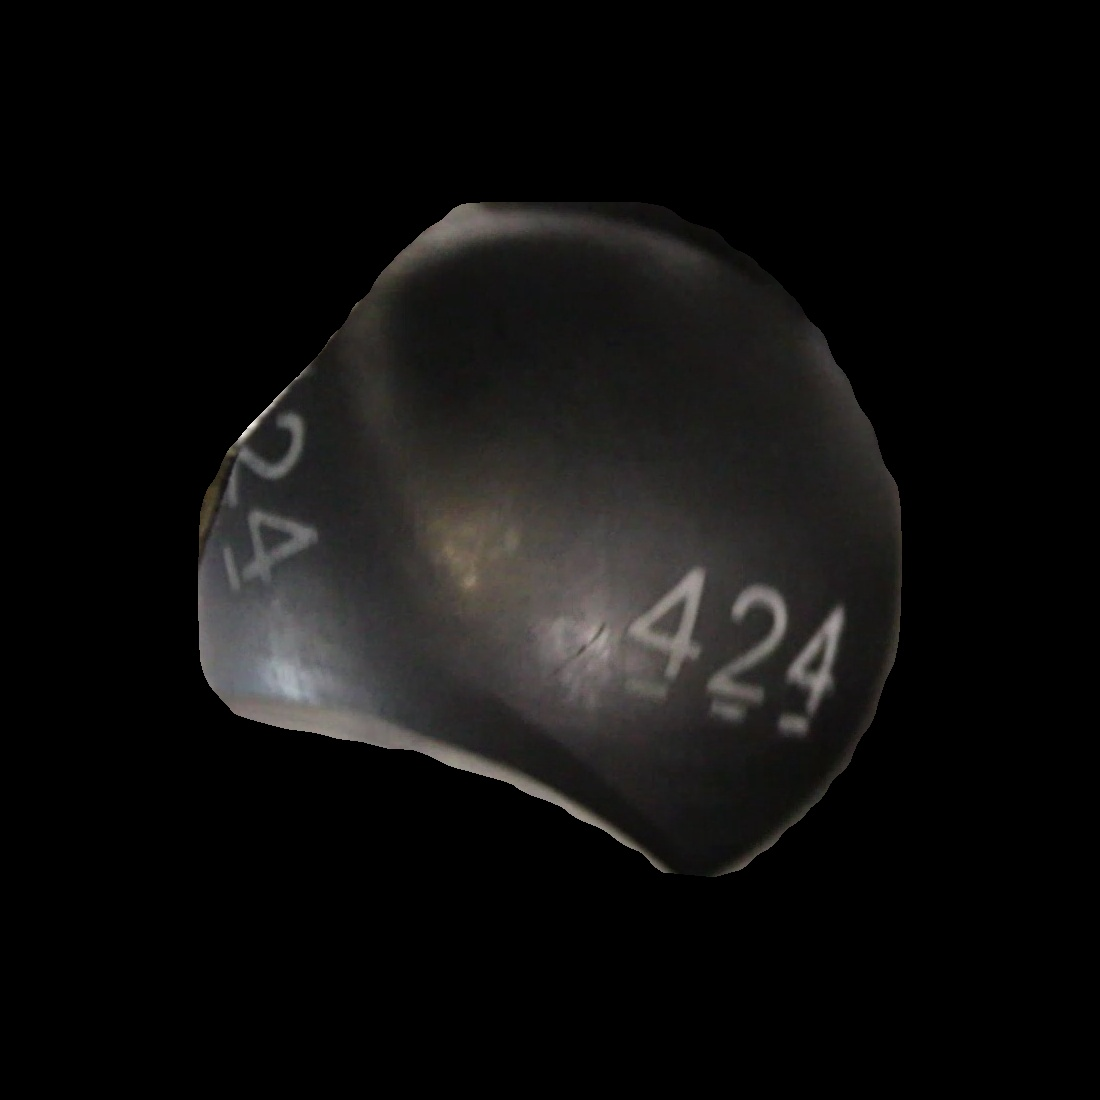digits: (626, 565, 846, 732)
